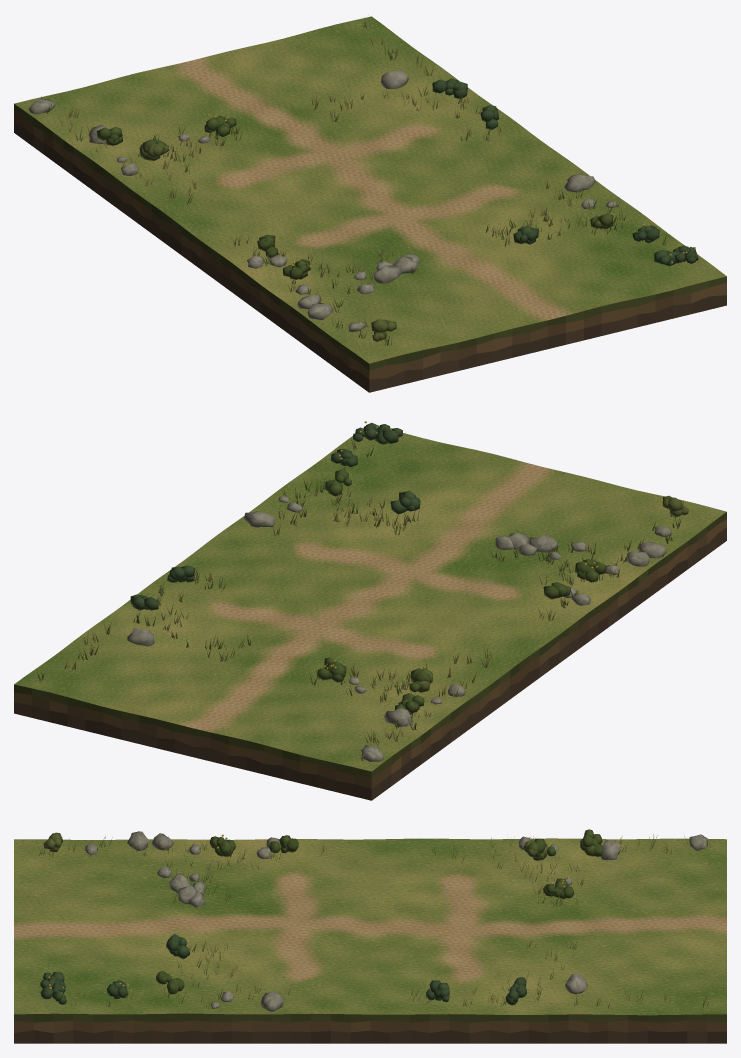
File: plaine.glb
3 renders of one model, top to bottom at view 1: azimuth 30°, elevation 25°; view 2: azimuth 150°, elevation 25°; view 3: azimuth 270°, elevation 25°, orthographic.
Visible parts, largest first — view 1: Sol_Prairie, Coupe_Terre; view 2: Sol_Prairie, Coupe_Terre; view 3: Sol_Prairie, Coupe_Terre, Maquis_13, Maquis_00, Maquis_07, Maquis_10, Maquis_02, Maquis_03, Maquis_04, Maquis_11, Maquis_09.
Part boxes in pixels (x1=…): Sol_Prairie: x1=14, y1=16, x2=726, y2=363; Coupe_Terre: x1=14, y1=104, x2=726, y2=392; Sol_Prairie: x1=14, y1=427, x2=726, y2=771; Coupe_Terre: x1=14, y1=512, x2=726, y2=800; Sol_Prairie: x1=14, y1=838, x2=726, y2=1015; Coupe_Terre: x1=14, y1=1013, x2=726, y2=1043; Maquis_13: x1=580, y1=829, x2=604, y2=856; Maquis_00: x1=543, y1=878, x2=573, y2=899; Maquis_07: x1=426, y1=980, x2=449, y2=1001; Maquis_10: x1=166, y1=934, x2=189, y2=959; Maquis_02: x1=269, y1=835, x2=298, y2=853; Maquis_03: x1=209, y1=836, x2=235, y2=856; Maquis_04: x1=505, y1=977, x2=526, y2=1005; Maquis_11: x1=155, y1=971, x2=184, y2=994; Maquis_09: x1=40, y1=983, x2=66, y2=1004.
Size of the model in its own units: 2.82 by 0.3851 by 4.85.
2 materials, 1 textured.
